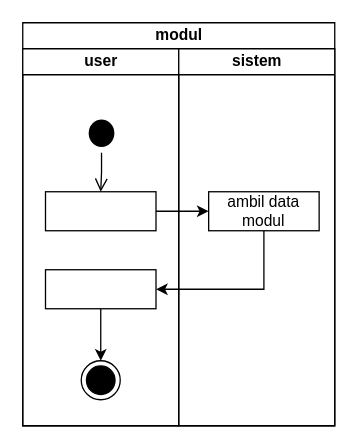
The diagram is 358 pixels wide and 448 high, and some of its shapes have lost their labels. Here are the shapes that lost their labels. From the top down, the centre of each, then its label:
[100,210]: pilih mata pelajaran
[100,288]: data modul
